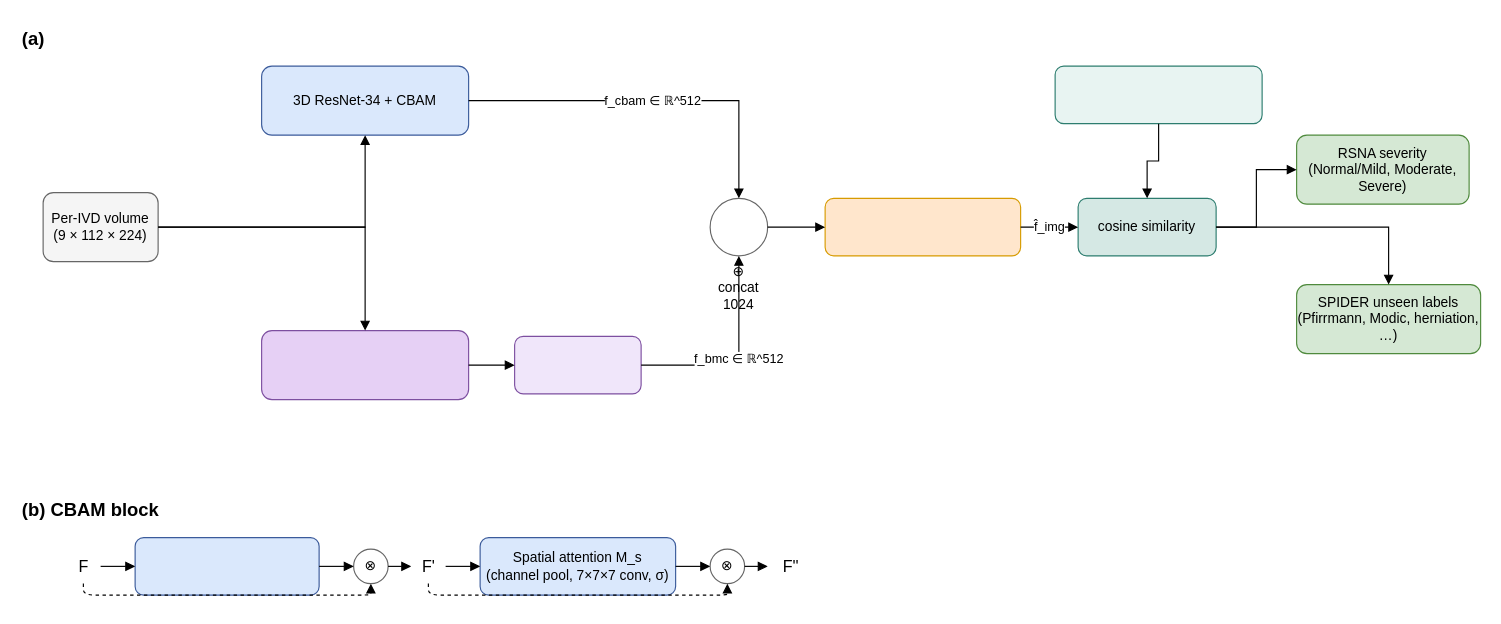
Some shapes in this 1501 by 624 pixel diagram are drawn without their labels. The shapes that lost their labels are listed below. From the top down, each one's centre as x and y in pixels, then its label:
At point (1158, 94): "text prompts {q_k} → BiomedCLIP text encoder".
At point (922, 226): "fusion MLP 1024→768→512, L2".
At point (364, 364): "BiomedCLIP ViT-B/16 (9 sagittal slices)".
At point (577, 364): "slice attention pool".
At point (226, 565): "Channel attention M_c (avg+max pool, MLP, σ)".
